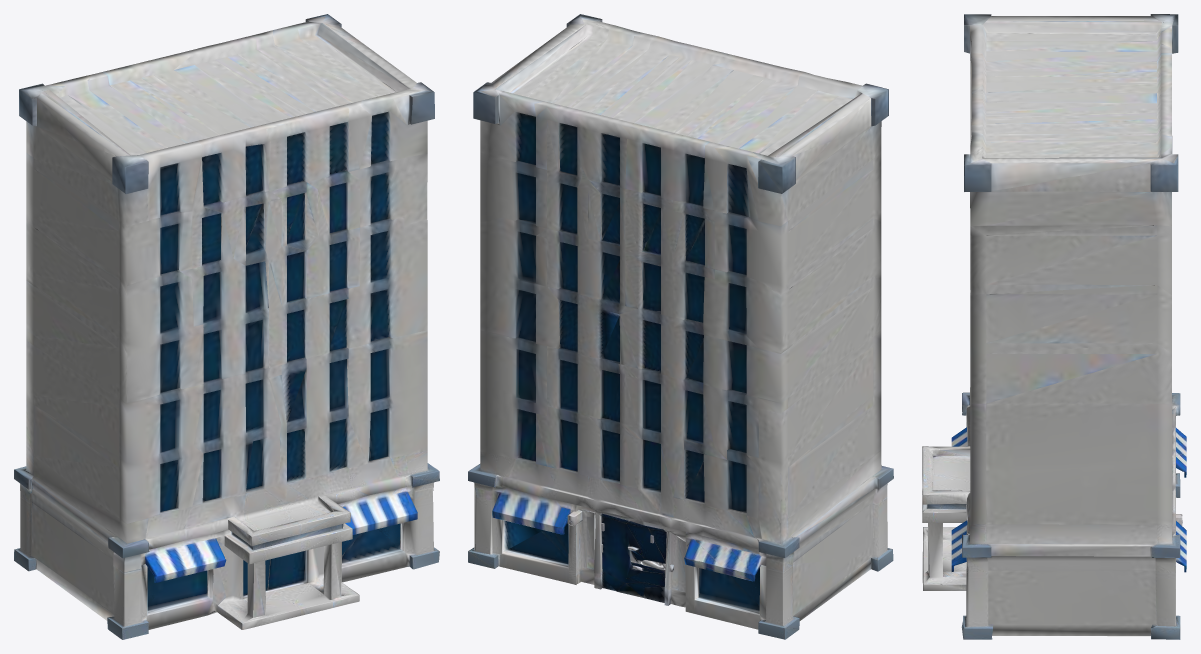
The model's file is 16-hotel.glb.
The picture shows the model from 3 angles, left to right: view 1: azimuth 30°, elevation 25°; view 2: azimuth 150°, elevation 25°; view 3: azimuth 270°, elevation 25°; orthographic projection.
Parts seen in each view (by area): view 1: geometry_0; view 2: geometry_0; view 3: geometry_0.
Boxes of the visible parts, left/top/right/bottom form: geometry_0: left=14, top=14, right=439, bottom=639; geometry_0: left=468, top=14, right=893, bottom=639; geometry_0: left=922, top=14, right=1186, bottom=639.
Size of the model in its own units: 0.6699 by 0.9517 by 0.4819.
1 material, 1 textured.
